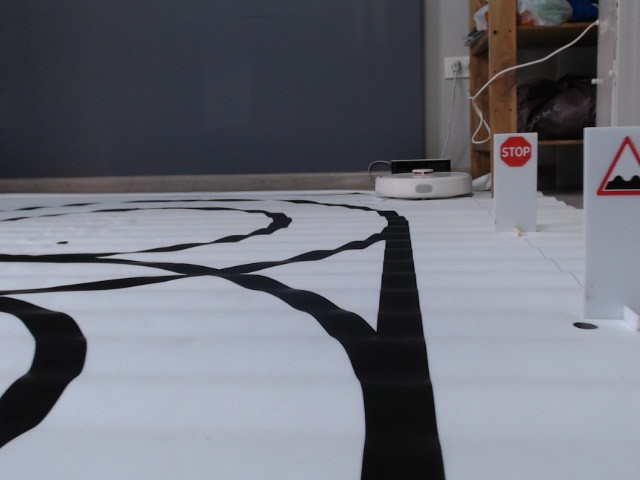Nerov: (597, 135, 640, 199)
Stop: (499, 135, 532, 168)
